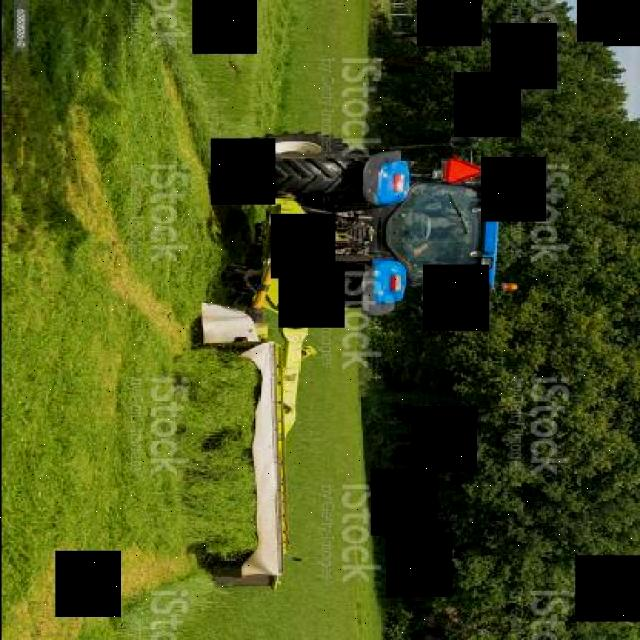Tratores - v5 YOLO V8L 2024-11-13: (160, 82, 569, 330)
